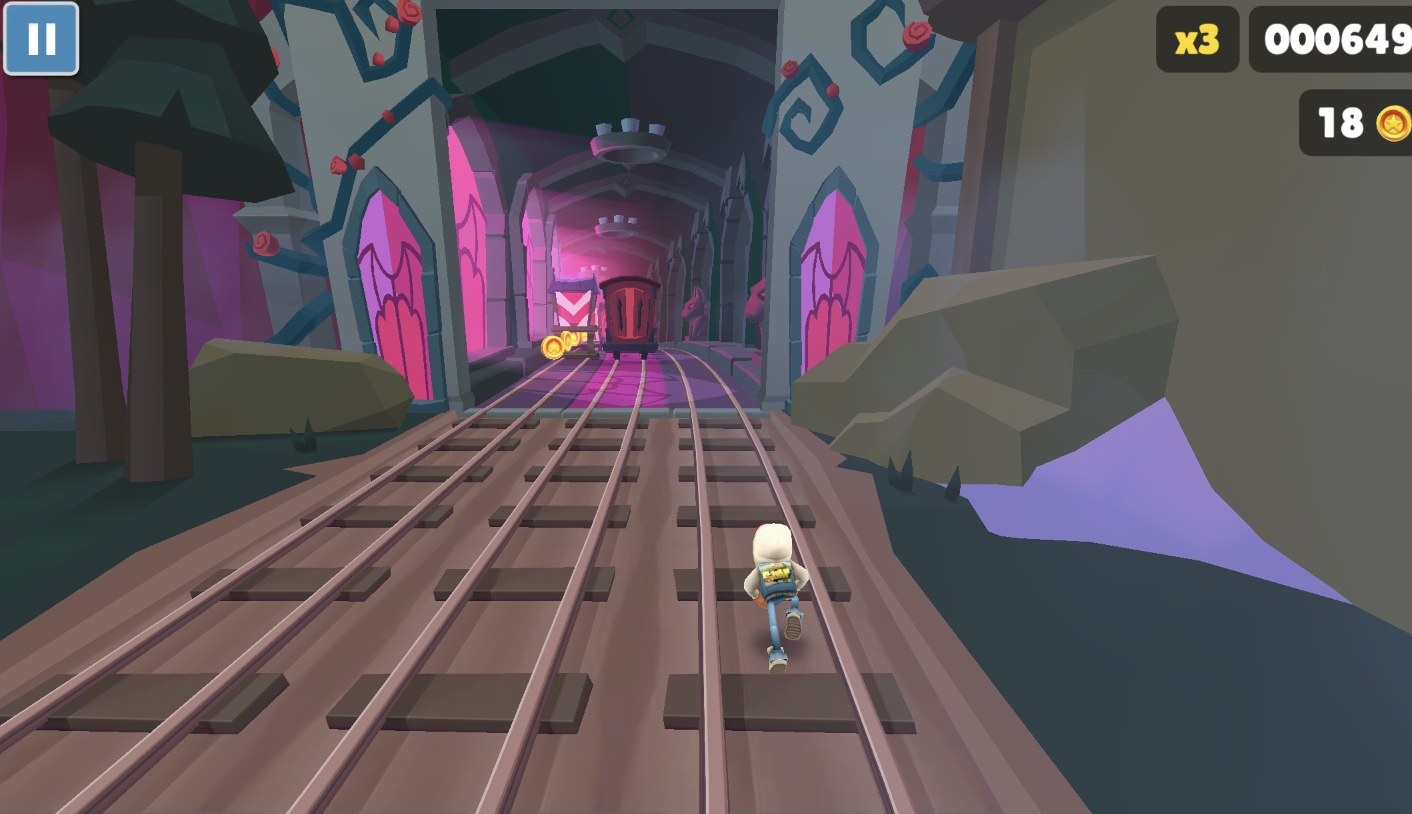overhead_barrier: (545, 275, 601, 357)
train: (598, 274, 662, 358)
